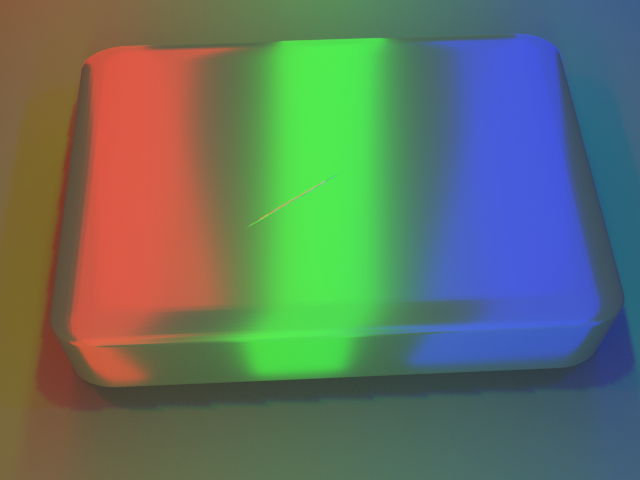scratch: (101, 90, 484, 311)
